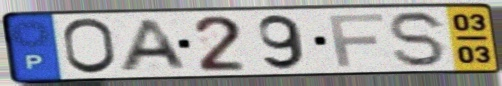2: (191, 14, 248, 74)
9: (255, 13, 308, 72)
A: (115, 17, 193, 73)
F: (326, 12, 387, 68)
O: (60, 16, 121, 77)
S: (386, 9, 451, 69)
